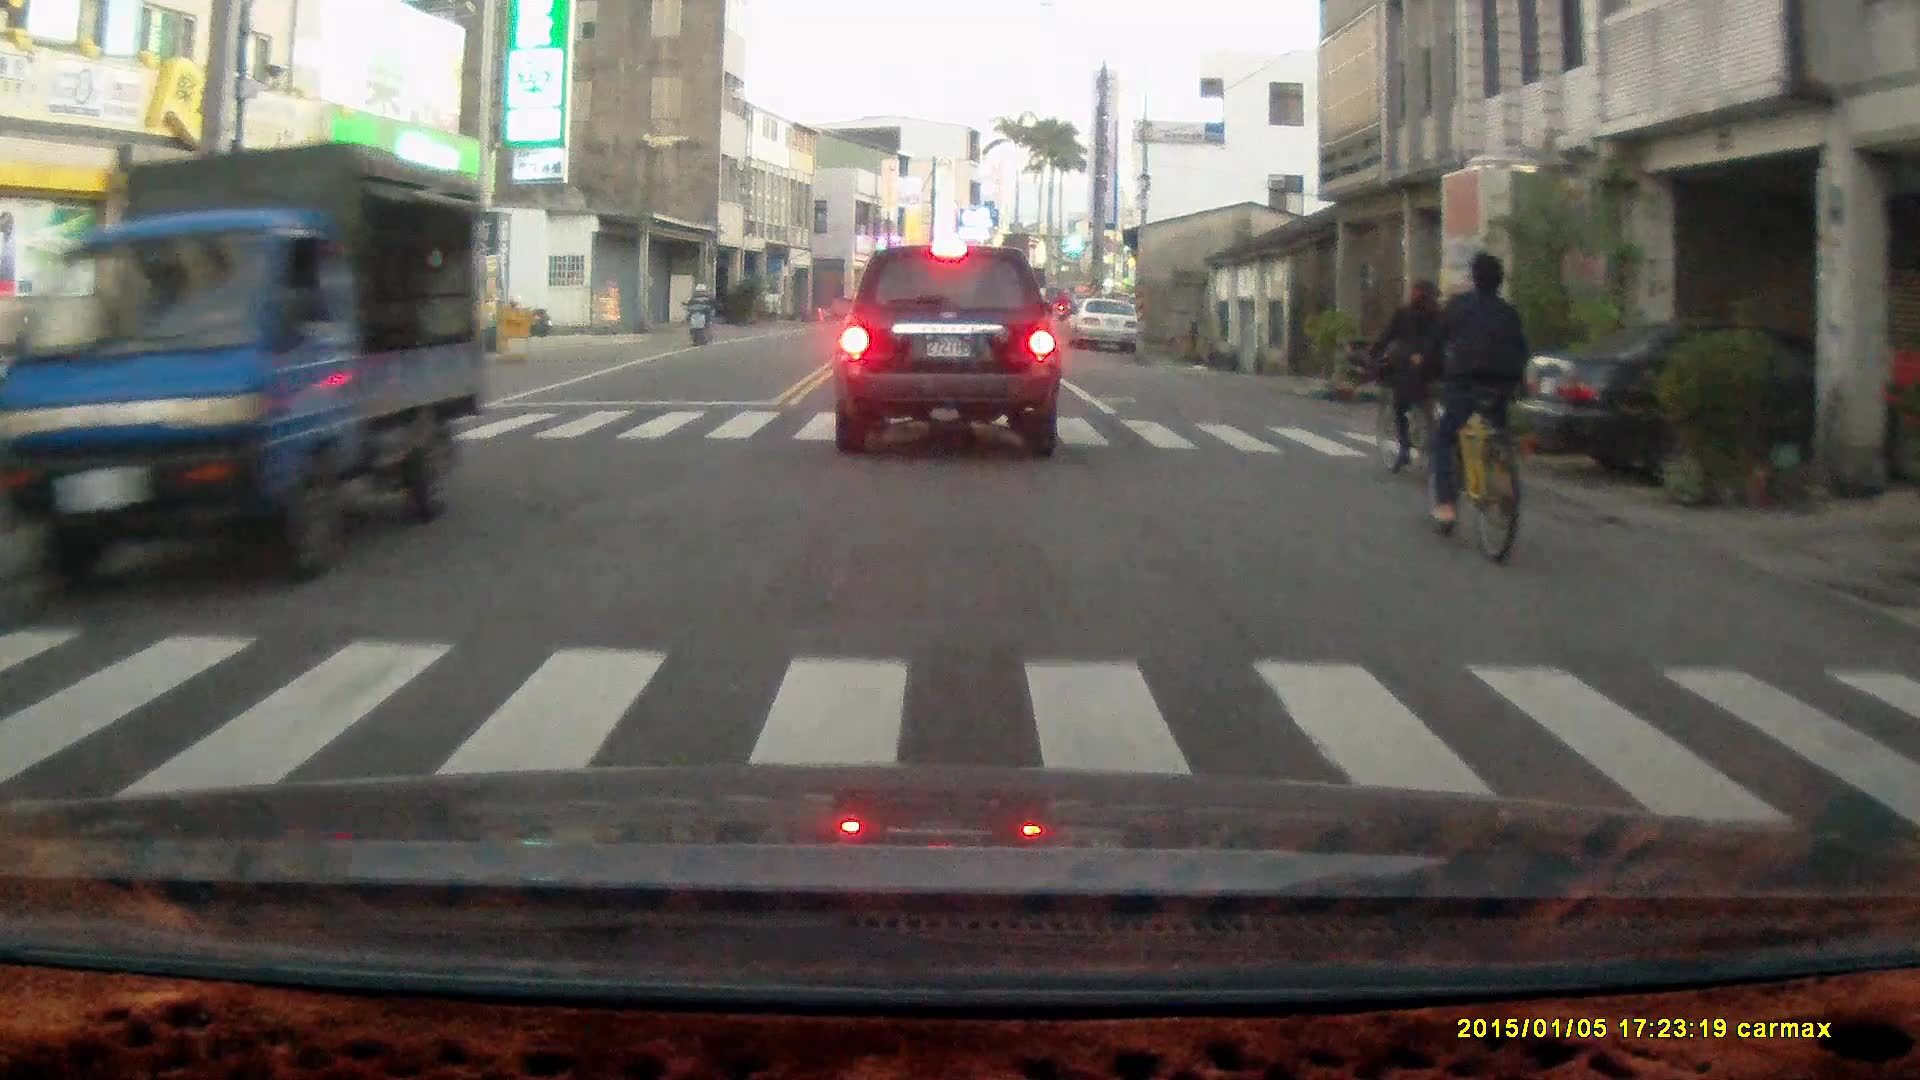rider: (1405, 253, 1526, 569), (1366, 278, 1450, 492), (683, 279, 713, 349)
vehicle: (1, 139, 480, 596), (1510, 315, 1920, 498), (829, 245, 1064, 459), (1067, 298, 1142, 354)
